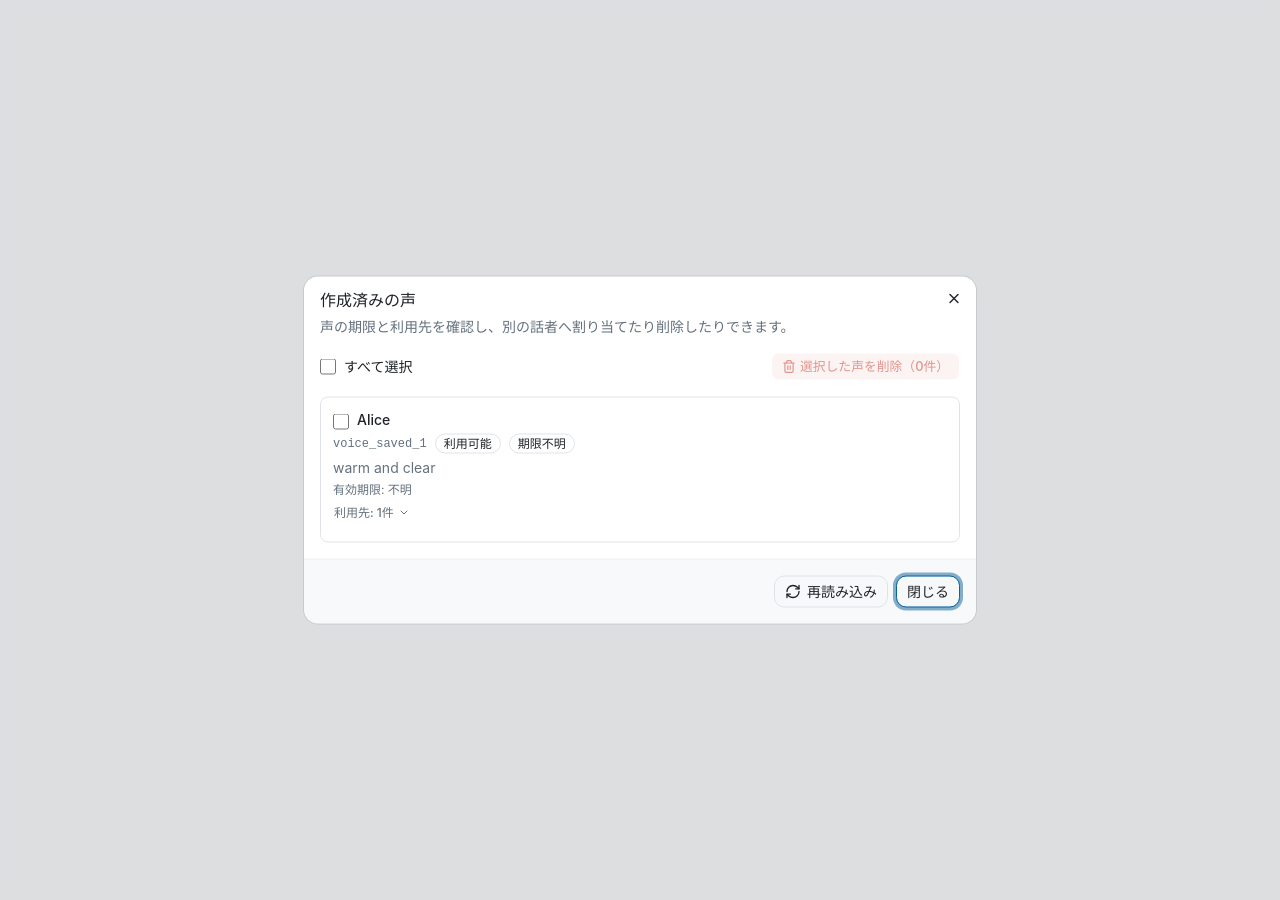
VoiceLibraryDialog › 利用先を完全に読めないときは削除確認を出さない
Click the checkbox named "Alice を選択": (341, 422) [333, 414, 349, 430]
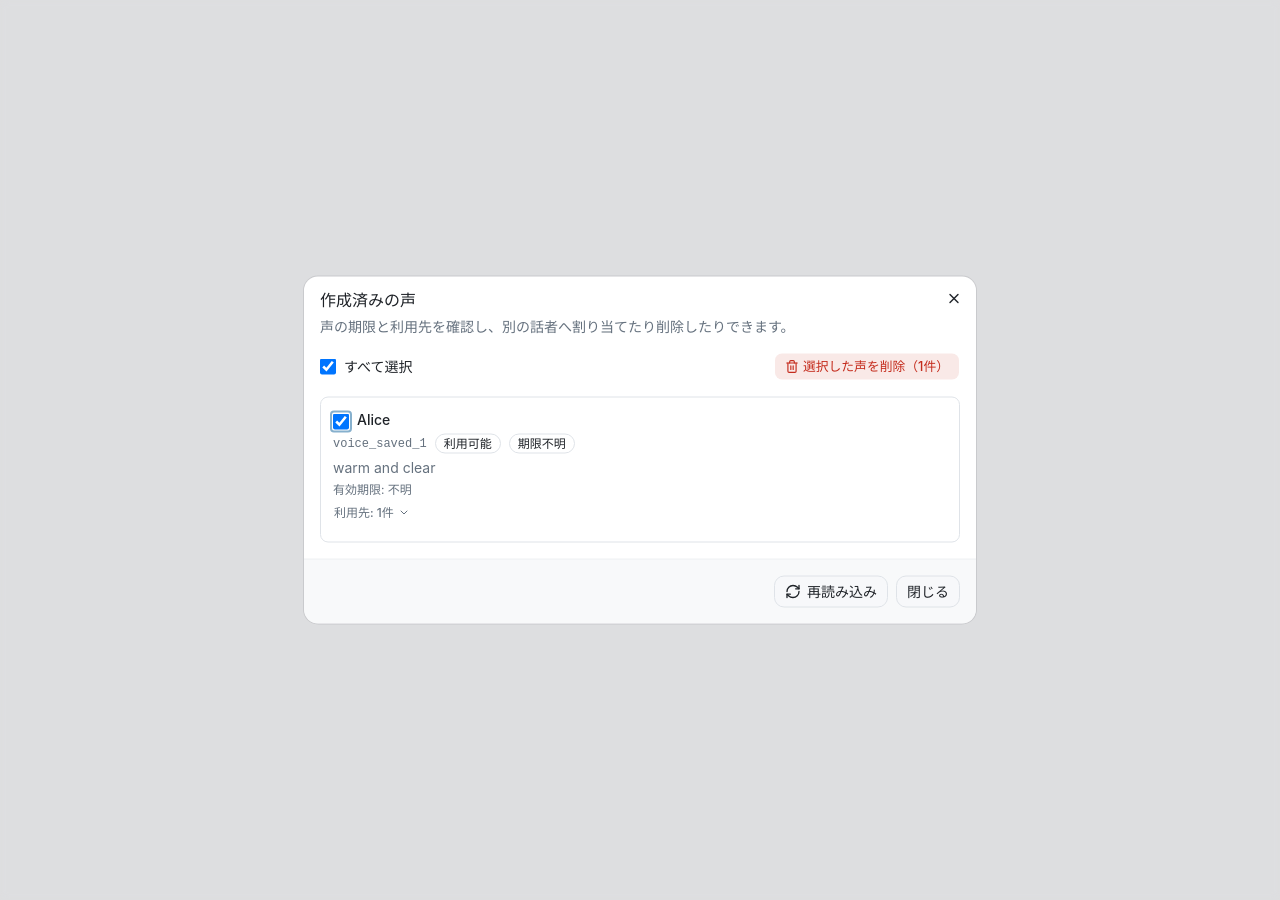
Click the button "選択した声を削除（1件）": (867, 366) [774, 352, 960, 380]
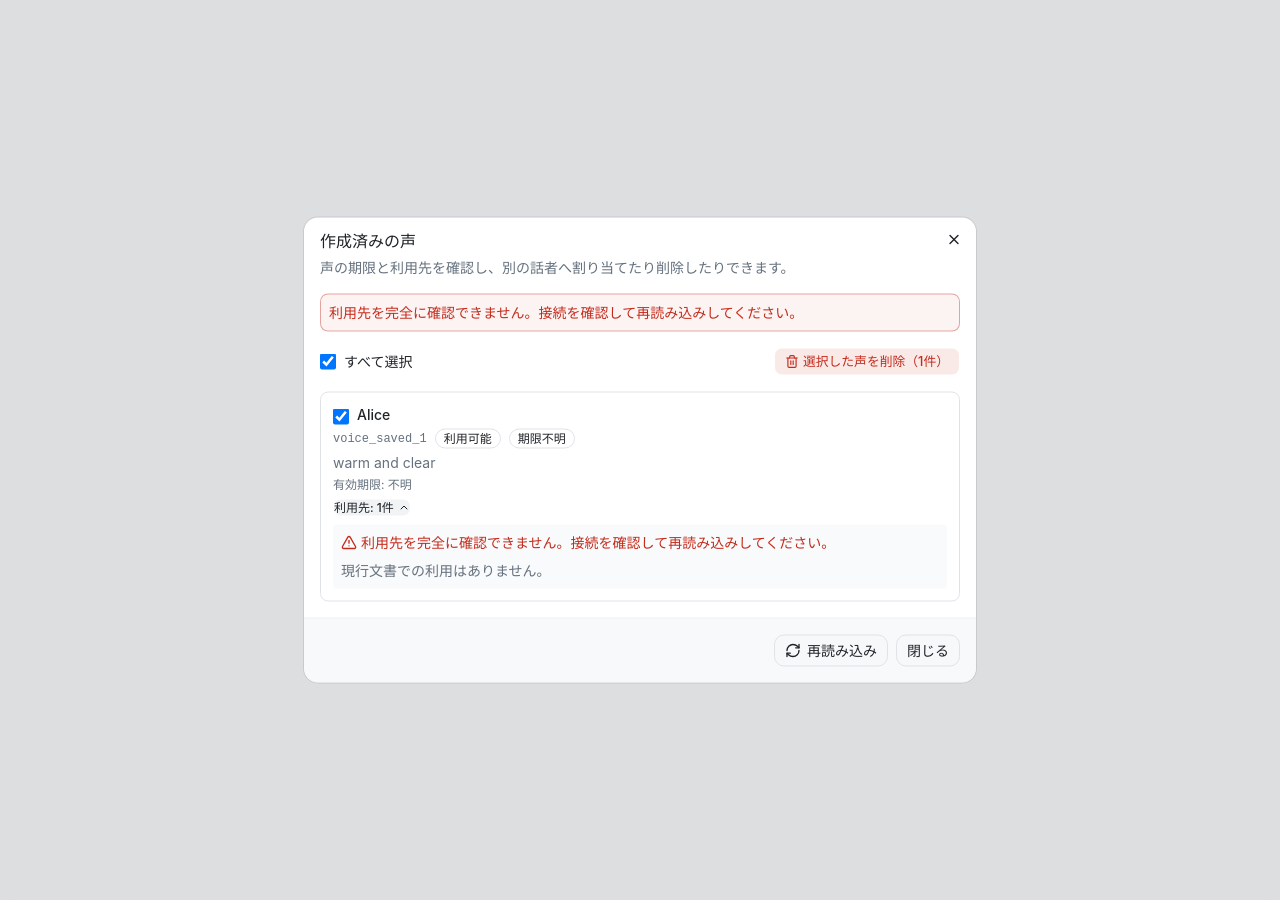
Expected: the message shows "利用先を完全に確認できません", [329, 304, 803, 320]
